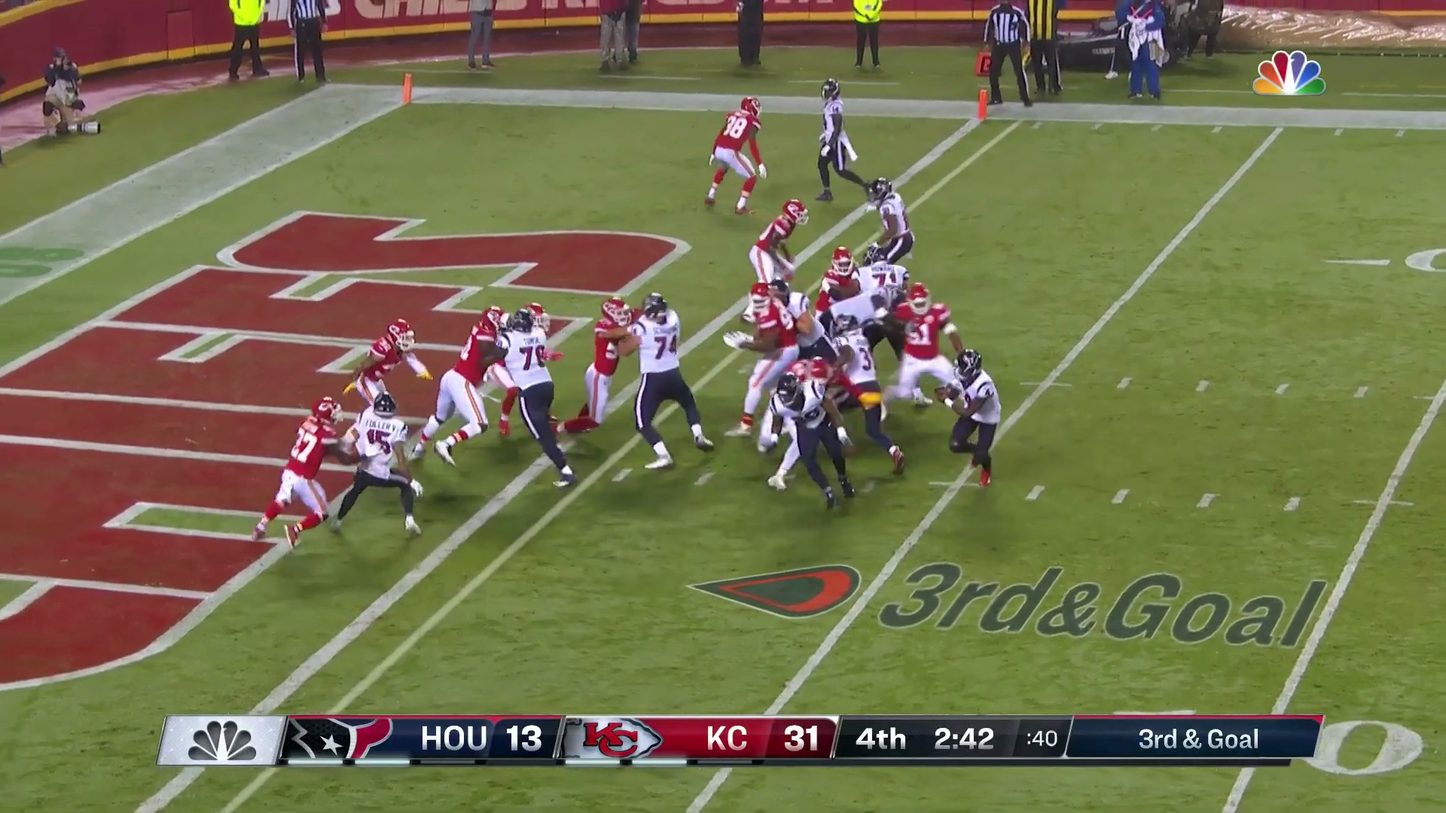Player: (633, 292, 695, 467), (767, 361, 838, 493), (742, 278, 797, 429), (893, 282, 953, 405), (352, 321, 408, 452), (816, 246, 872, 376), (949, 349, 1000, 485), (503, 303, 554, 437), (707, 96, 764, 211), (455, 306, 506, 431), (585, 297, 634, 421), (354, 387, 408, 483), (866, 178, 914, 284), (750, 200, 807, 286), (861, 243, 910, 330)
